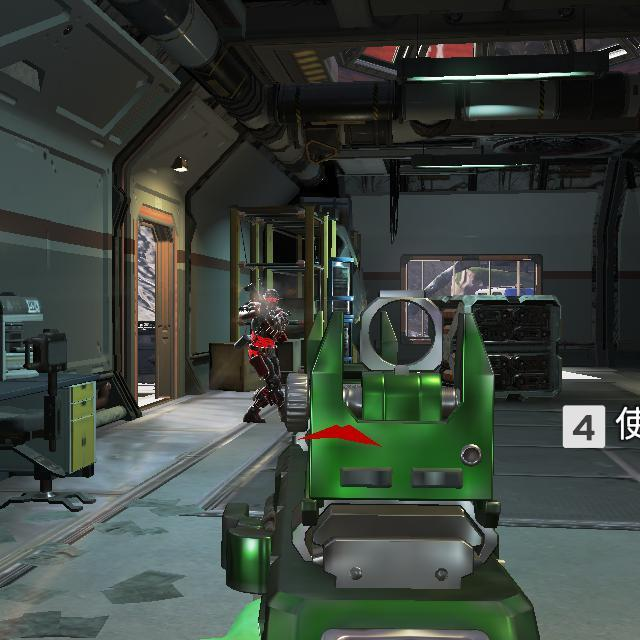avatar: (236, 286, 293, 426)
